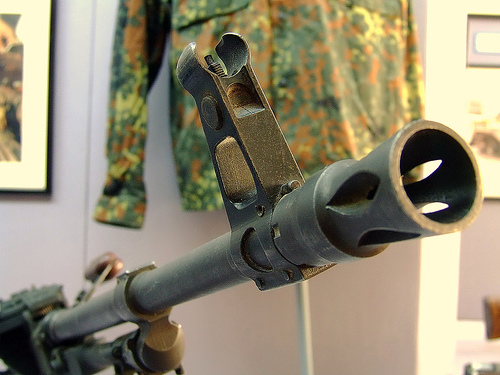rifle: (28, 40, 484, 363)
